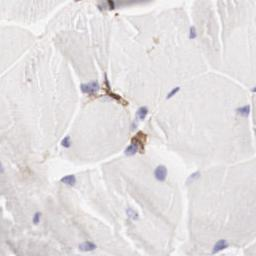nucleus: (153, 162, 167, 182), (212, 238, 230, 253), (187, 170, 203, 183), (77, 82, 99, 91), (79, 240, 97, 251), (166, 86, 181, 98), (236, 104, 251, 116), (125, 207, 139, 219), (136, 106, 147, 120), (188, 24, 198, 39), (59, 174, 75, 183), (32, 210, 41, 225), (124, 144, 136, 154), (62, 135, 71, 146), (105, 73, 109, 86), (252, 87, 256, 92)
positive_cell: (102, 75, 127, 106), (124, 132, 149, 155)
